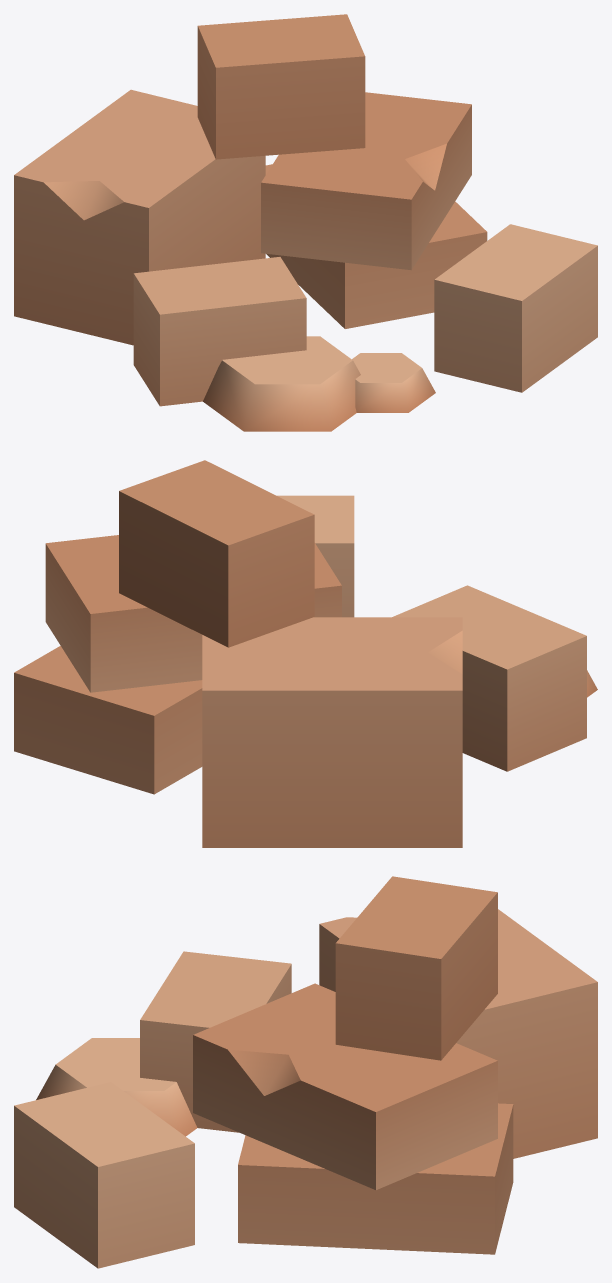
File: bricks.glb
The picture shows the model from 3 angles, top to bottom: view 1: azimuth 30°, elevation 25°; view 2: azimuth 150°, elevation 25°; view 3: azimuth 270°, elevation 25°; orthographic projection. The views are drawn at different scales.
Visible parts, largest first — view 1: bricks; view 2: bricks; view 3: bricks.
Part boxes in pixels (box(x1,y1,x2,y2)): bricks: box(14, 14, 597, 431); bricks: box(14, 460, 597, 847); bricks: box(14, 876, 597, 1268).
Bounding box in the file's own units: 0.772 × 0.4125 × 0.8469.
Materials: 1 (1 with a texture image).
